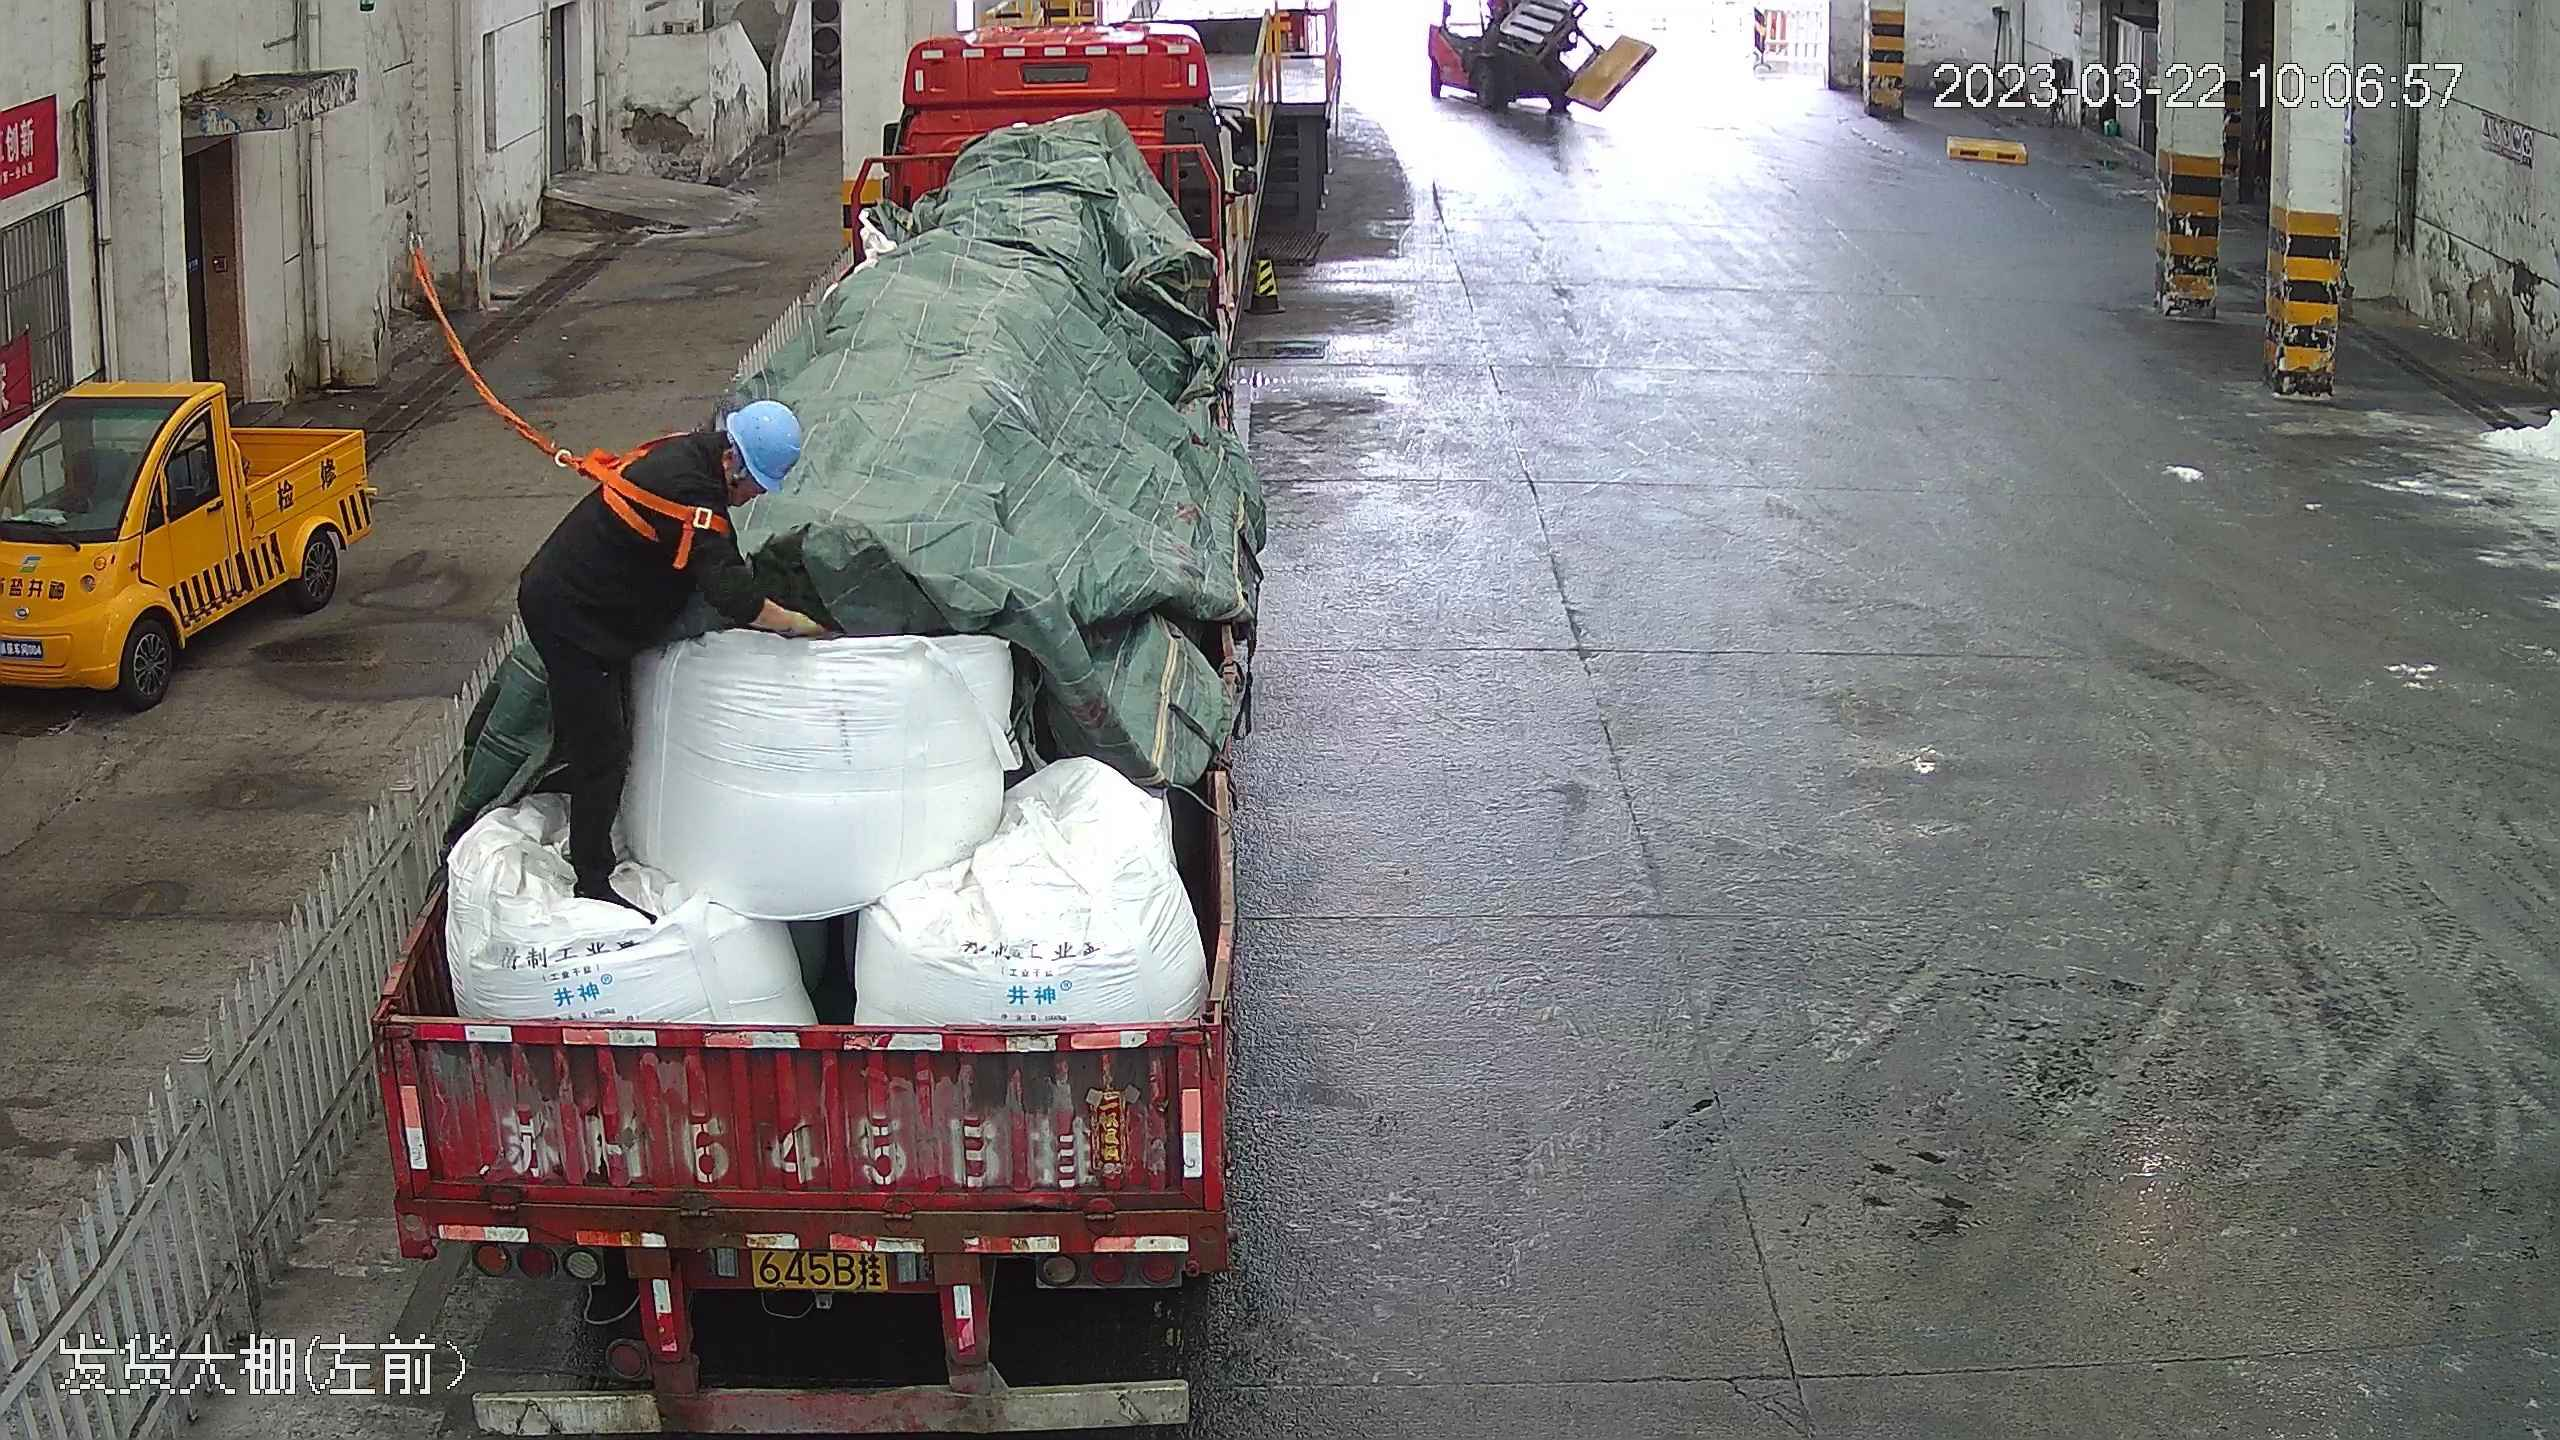belt: (575, 419, 713, 565)
head: (638, 390, 801, 561)
helmet: (726, 394, 806, 491)
people: (508, 381, 834, 920)
truck: (331, 1, 1306, 1420)
